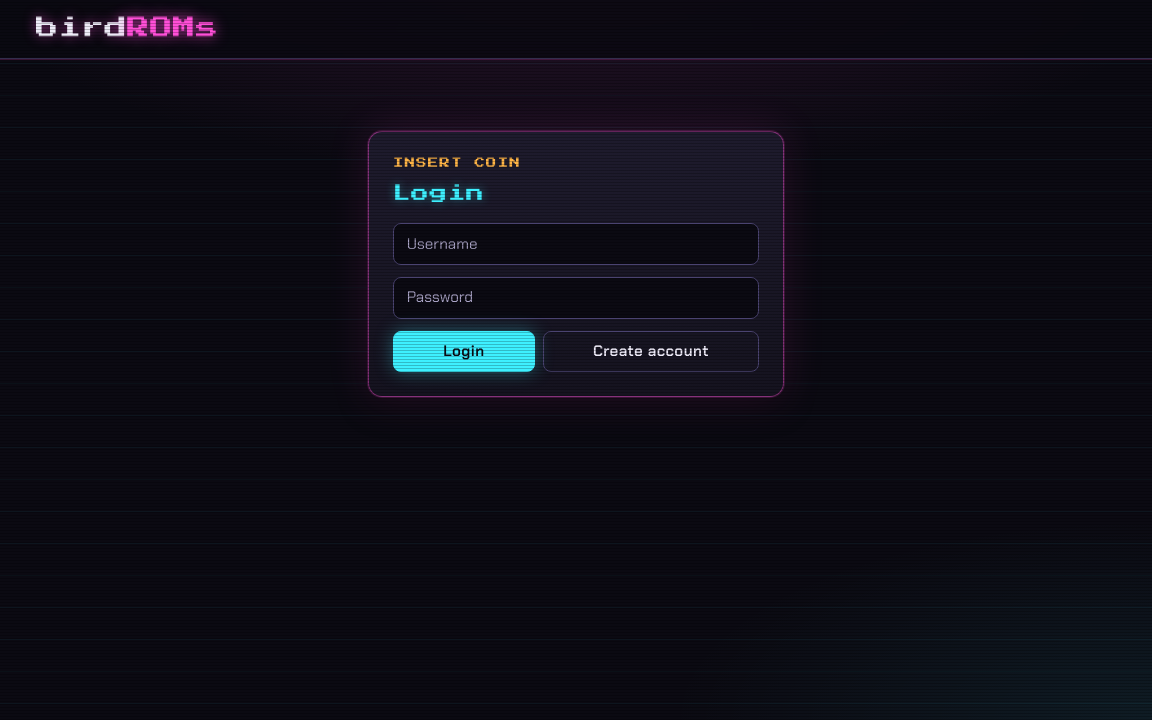
Test case: App › registers a local account and signs in
Click the button "Create account" at (651,351), box [543,330,759,372]
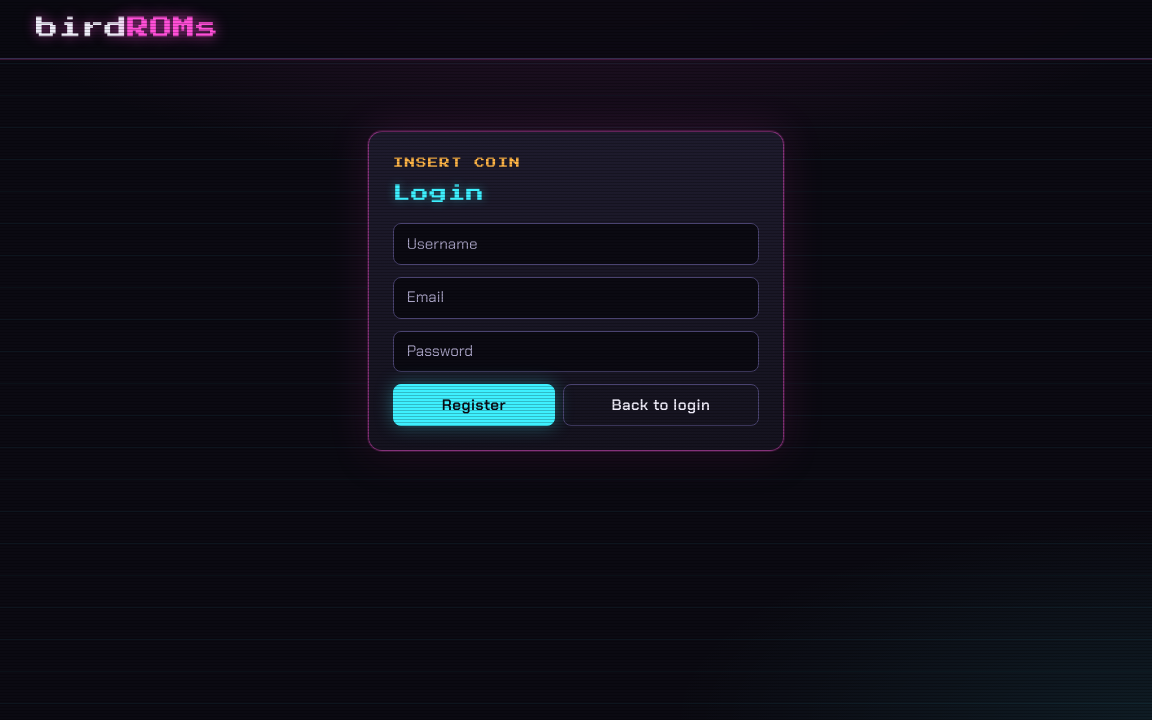
Type "bob" into the field with placeholder "Username" at (576,244), box [393,223,759,265]
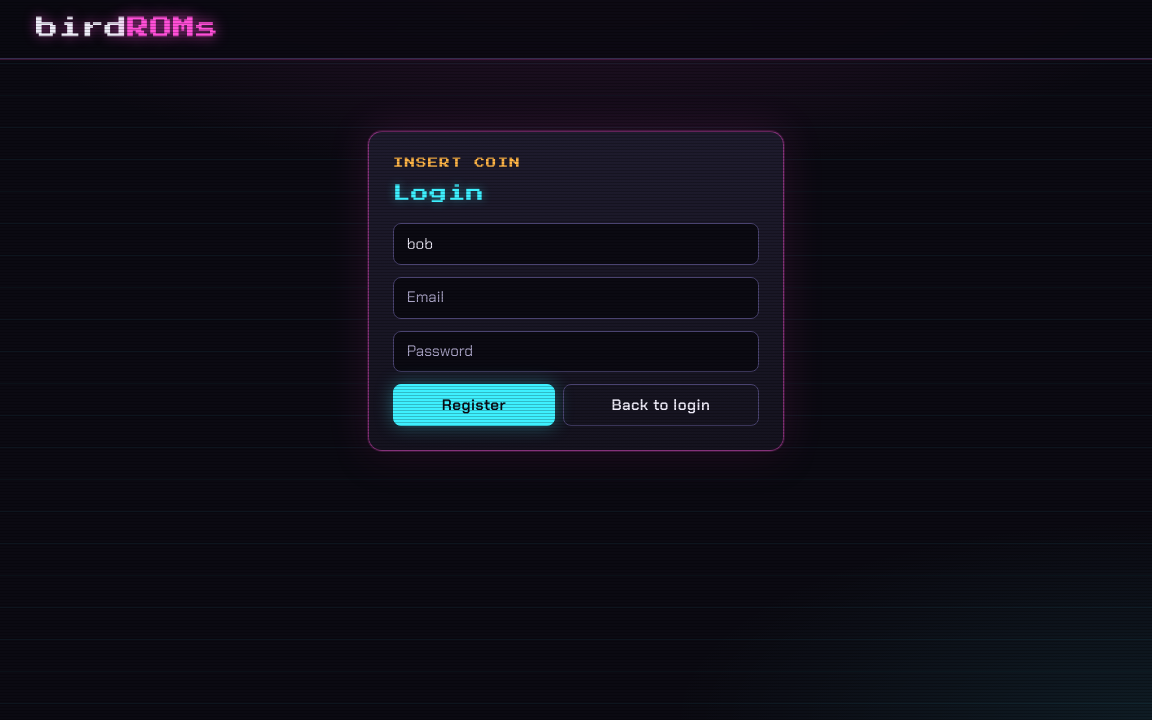
Type "bob@example.com" into the field with placeholder "Email" at (576,298), box [393,277,759,319]
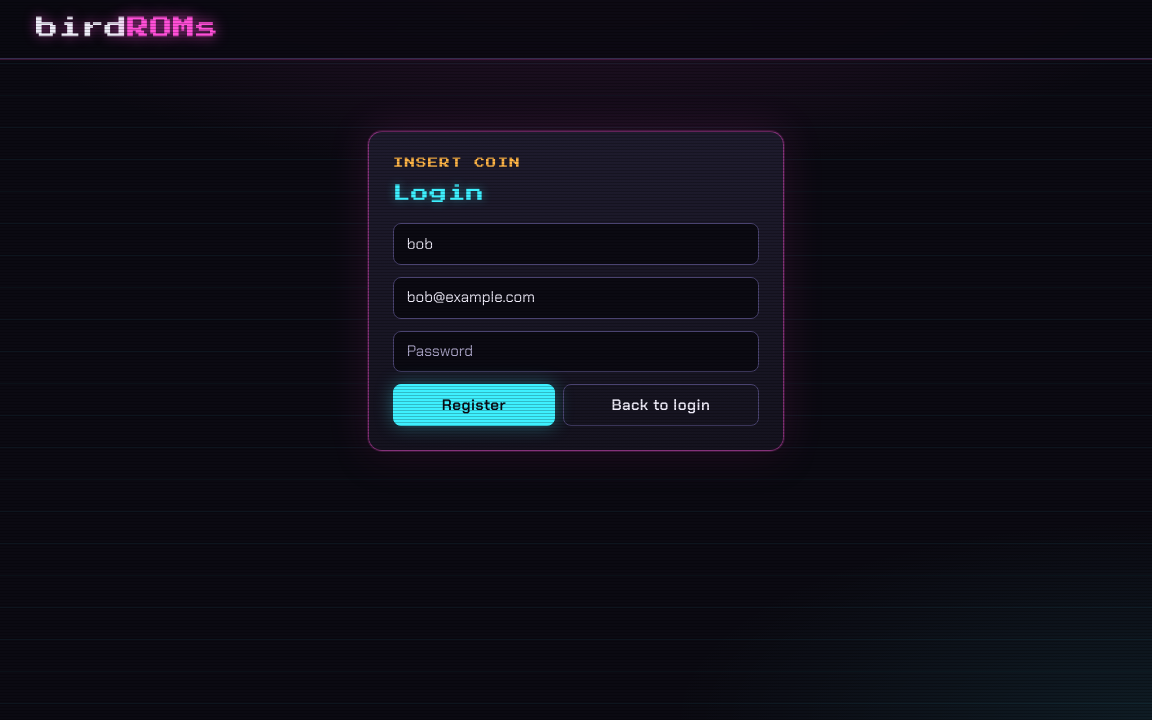
Type "s3cure-pass" into the password field with placeholder "Password" at (576,351), box [393,330,759,372]
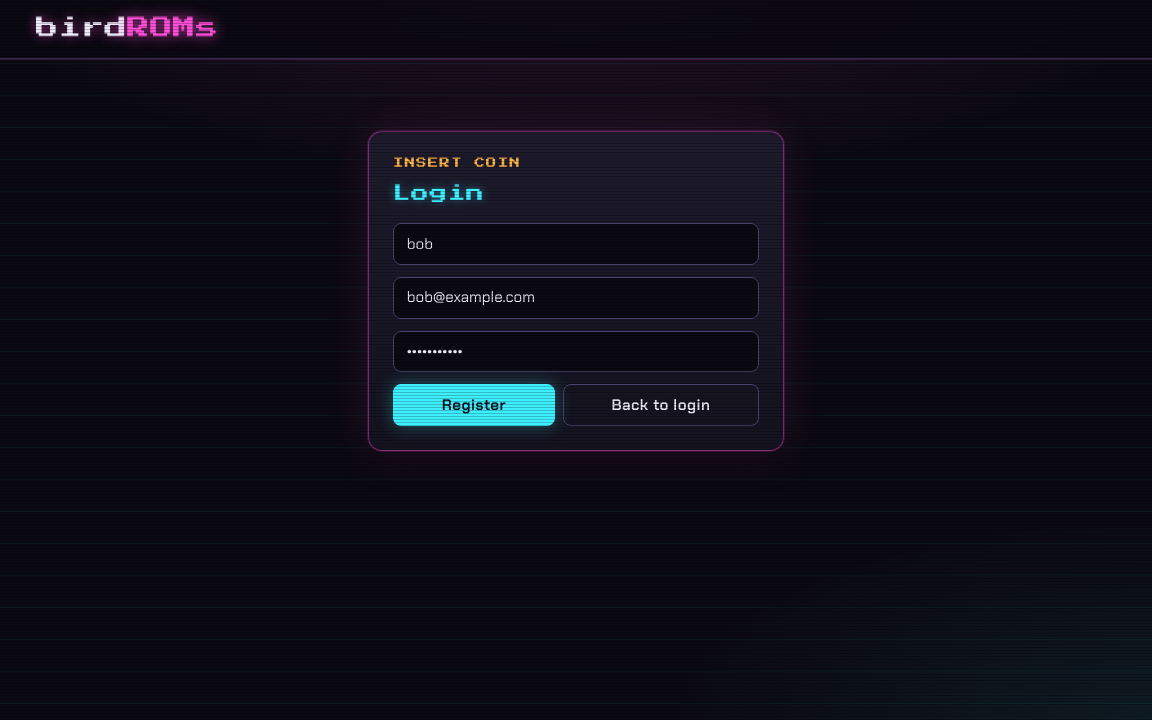
Click the button "Register" at (474,405), box [393,384,555,426]
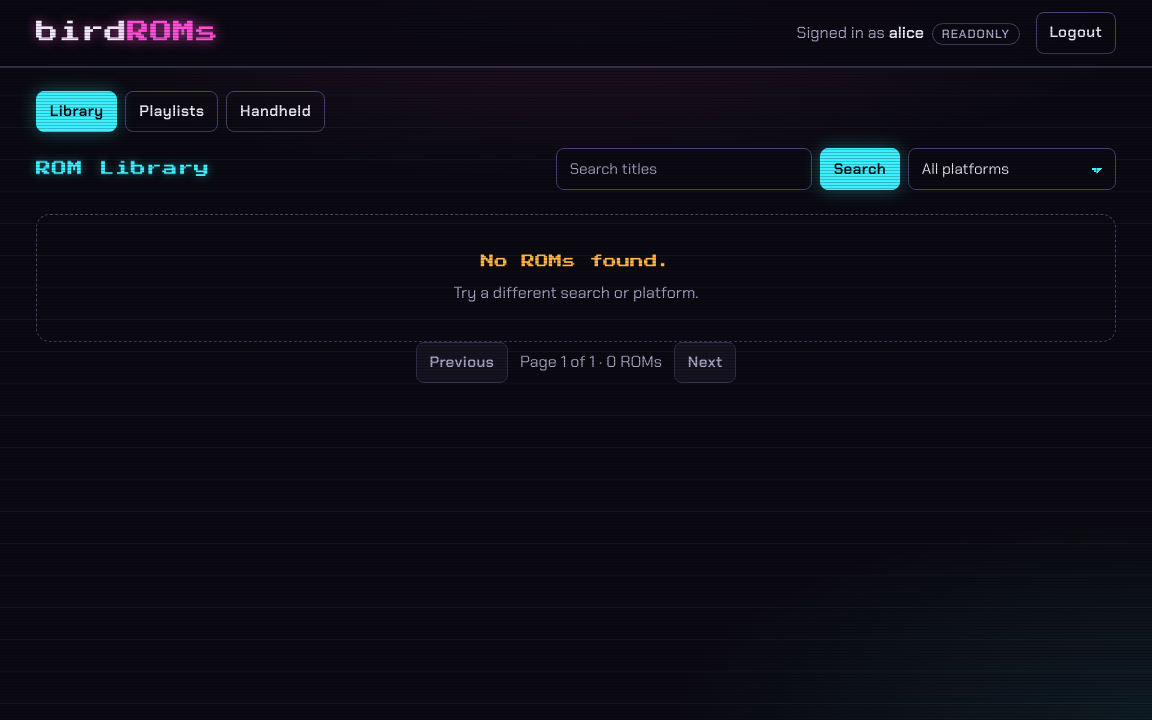
Expected: the heading "ROM Library" is shown, [36,157,210,181]
